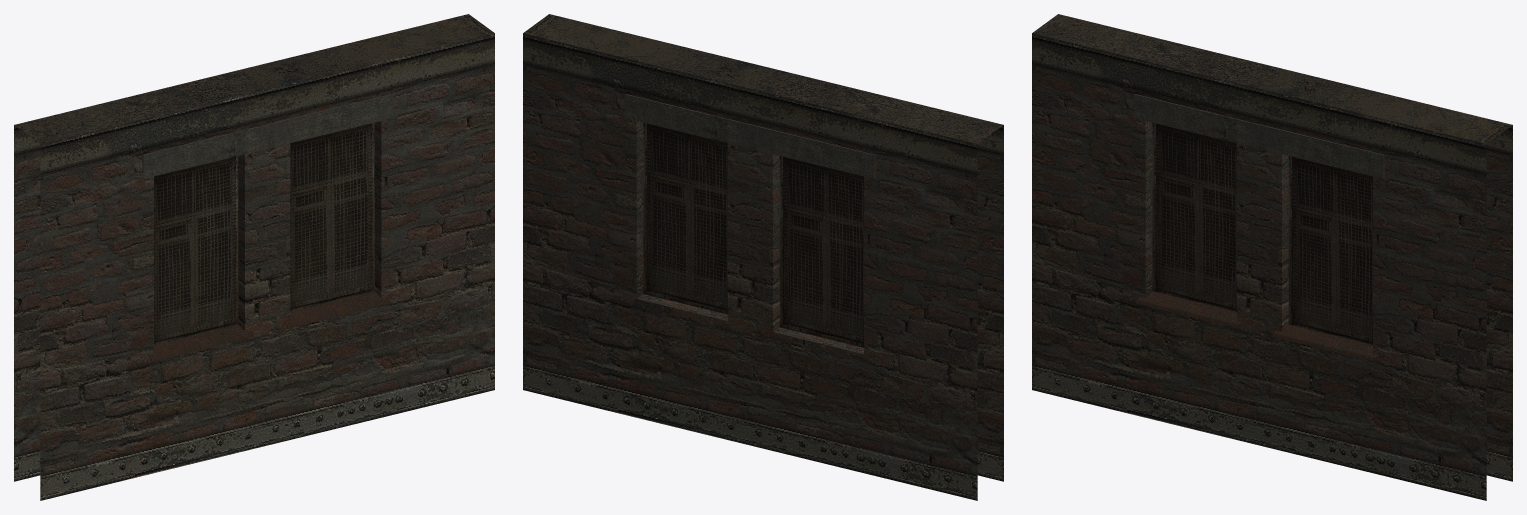
Rendered from windows_hr_1.glb.
The picture shows the model from 3 angles, left to right: view 1: azimuth 30°, elevation 25°; view 2: azimuth 150°, elevation 25°; view 3: azimuth 330°, elevation 25°; orthographic projection.
Parts seen in each view (by area): view 1: windows_hr_1; view 2: windows_hr_1; view 3: windows_hr_1.
Part boxes in pixels (x1,y1,x2,y2): windows_hr_1: [14, 14, 494, 500]; windows_hr_1: [523, 14, 1003, 500]; windows_hr_1: [1032, 14, 1512, 500].
Size of the model in its own units: 4 by 3 by 0.465.
5 materials, 5 textured.
